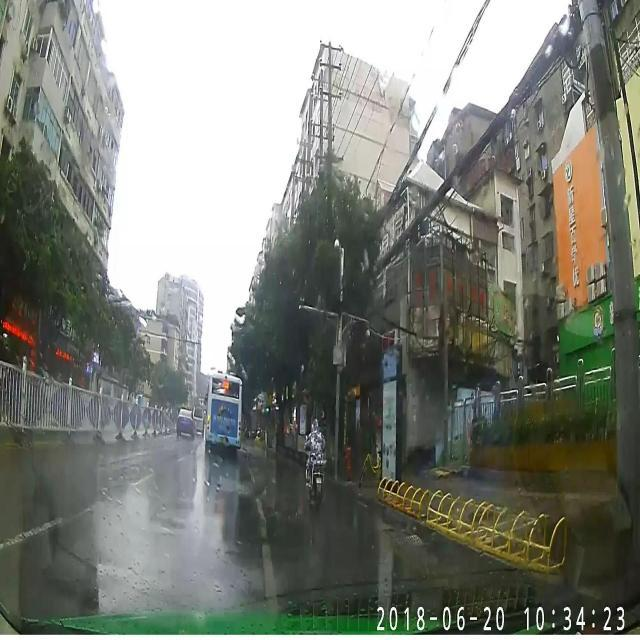car: (175, 404, 195, 438), (192, 404, 203, 435)
